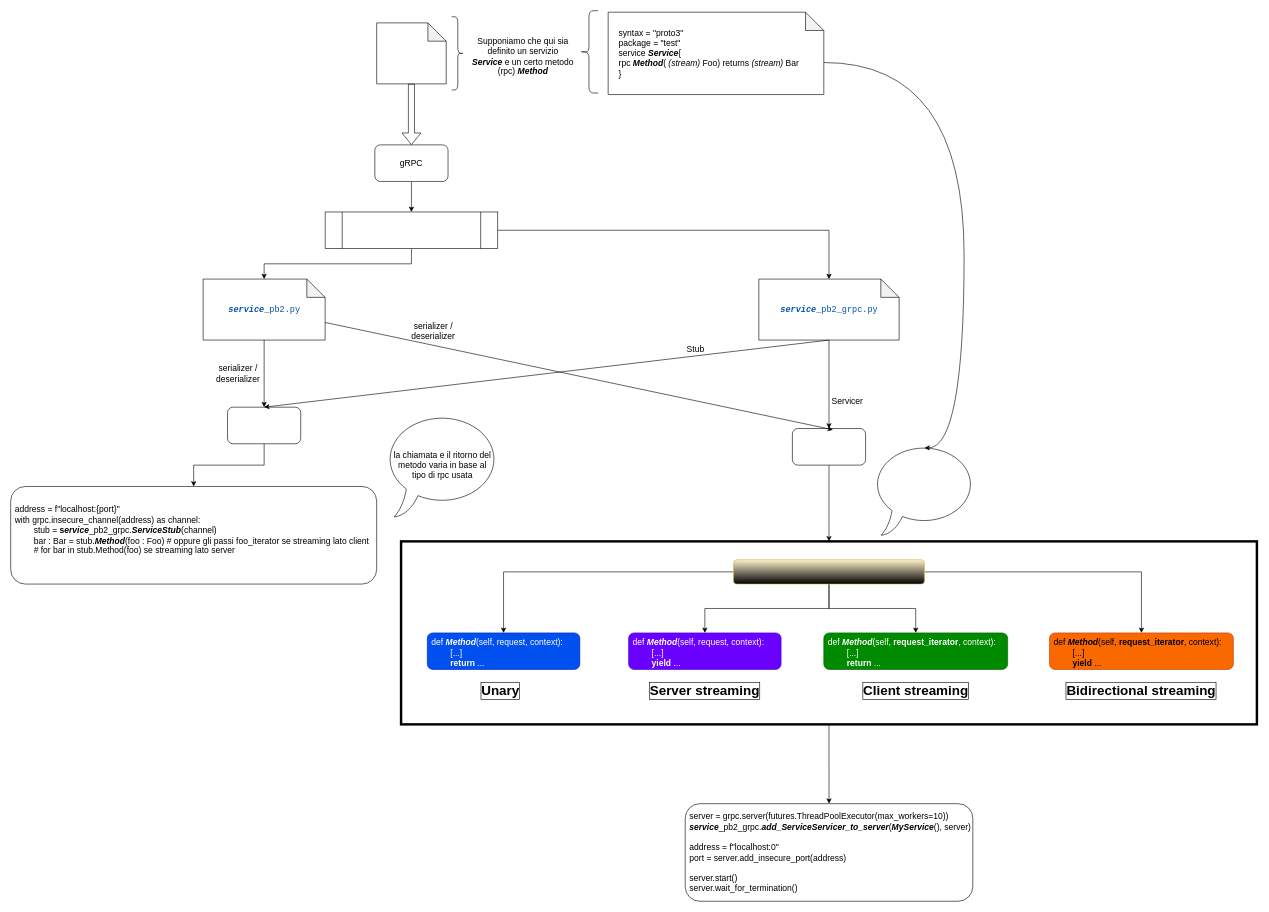
The diagram is 1269 pixels wide and 912 high, and some of its shapes have lost their labels. Here are the shapes that lost their labels. From the top down, the box of each, then its label:
(376, 22, 446, 84): service .proto file
(325, 211, 498, 249): python -m grpc_tools.protoc [...]
(227, 407, 301, 444): client
(792, 428, 866, 465): server
(872, 443, 976, 535): la firma e il ritorno del metodo varia in base al tipo di rpc usata
(733, 559, 925, 584): class MyServicer (service_pb2_grpc.Servicer):
